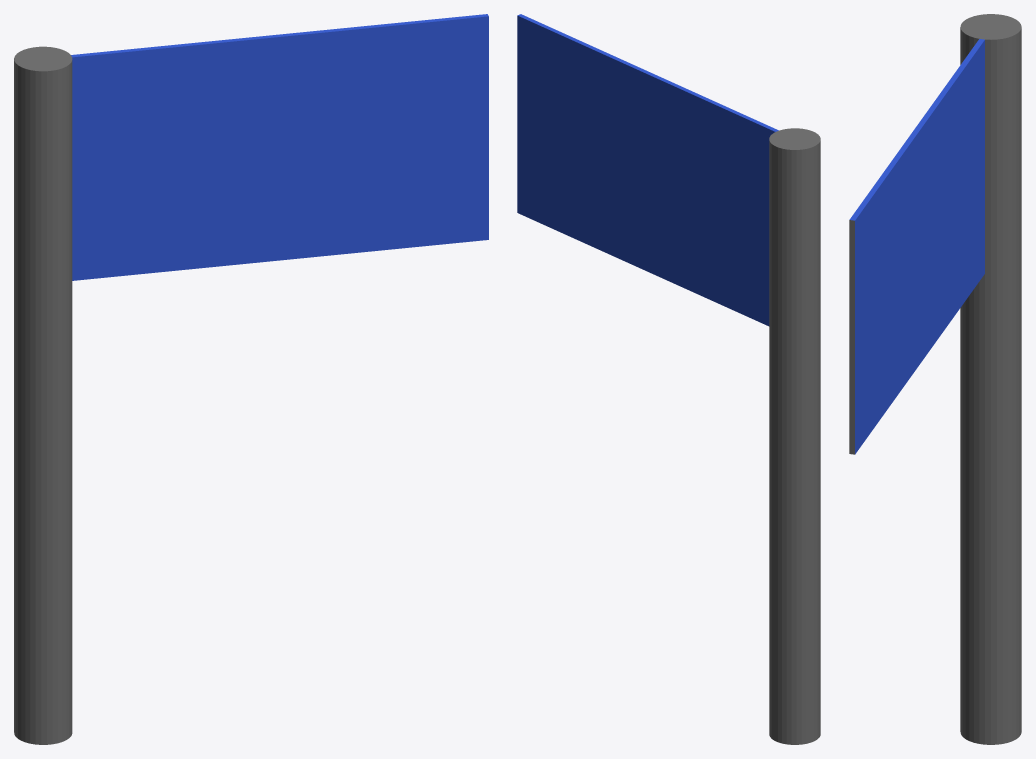
The model's file is BlueFlag.fbx.
3 views of the same model, side by side, from view 1: azimuth 30°, elevation 25°; view 2: azimuth 150°, elevation 25°; view 3: azimuth 270°, elevation 25° (orthographic). The views are drawn at different scales.
Visible parts, largest first — view 1: Blue Flag; view 2: Blue Flag; view 3: Blue Flag.
Part boxes in pixels (box(x1,y1,x2,y2)): Blue Flag: box(14, 14, 488, 744); Blue Flag: box(517, 14, 820, 744); Blue Flag: box(849, 14, 1021, 744).
Size of the model in its own units: 2.61 by 4.15 by 0.92.
